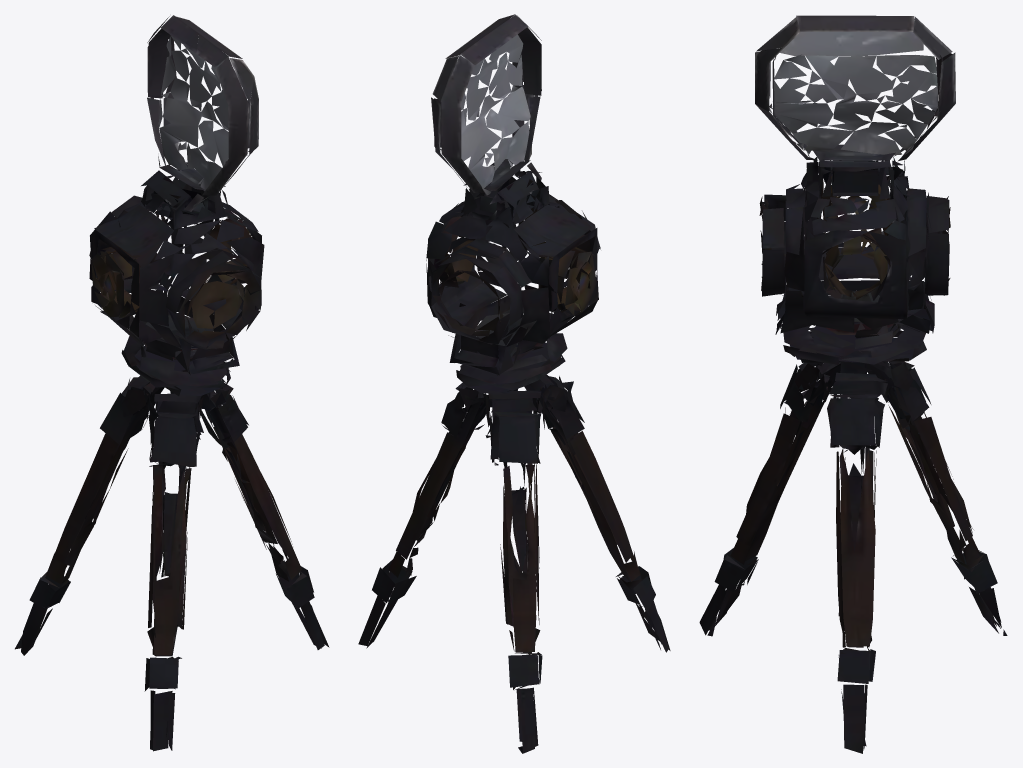
File: prop-landing-beacon-lod2.glb
3 views of the same model, side by side, from view 1: azimuth 30°, elevation 25°; view 2: azimuth 150°, elevation 25°; view 3: azimuth 270°, elevation 25° (orthographic). The views are drawn at different scales.
Visible parts, largest first — view 1: xenovoya_runtime_asset; view 2: xenovoya_runtime_asset; view 3: xenovoya_runtime_asset.
Boxes of the visible parts, <box> form: xenovoya_runtime_asset: <box>15,15,329,751</box>; xenovoya_runtime_asset: <box>358,14,670,753</box>; xenovoya_runtime_asset: <box>699,15,1007,753</box>.
Size of the model in its own units: 0.27 by 0.6814 by 0.2822.
Materials: 1 (1 with a texture image).
